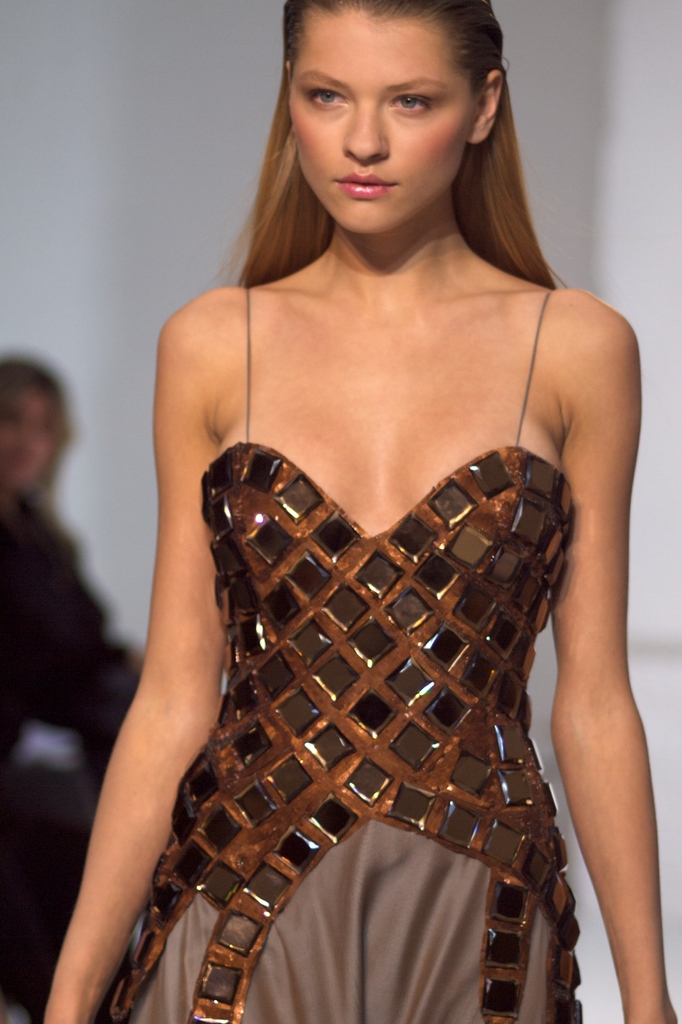Person: (0, 360, 147, 1023)
